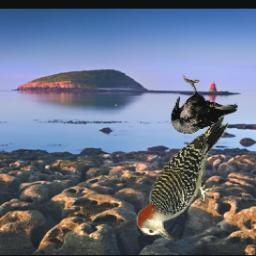Crow: (171, 74, 239, 134)
Woodpecker: (134, 113, 228, 241)
